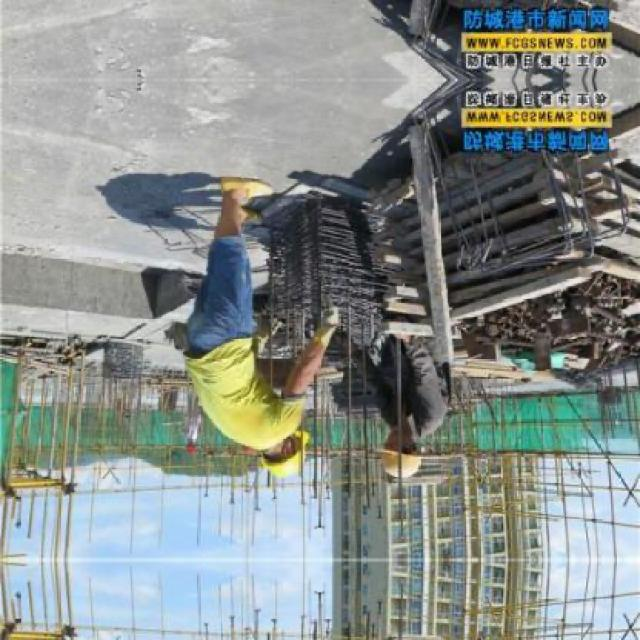con casco: (254, 422, 310, 492), (378, 425, 431, 486)
